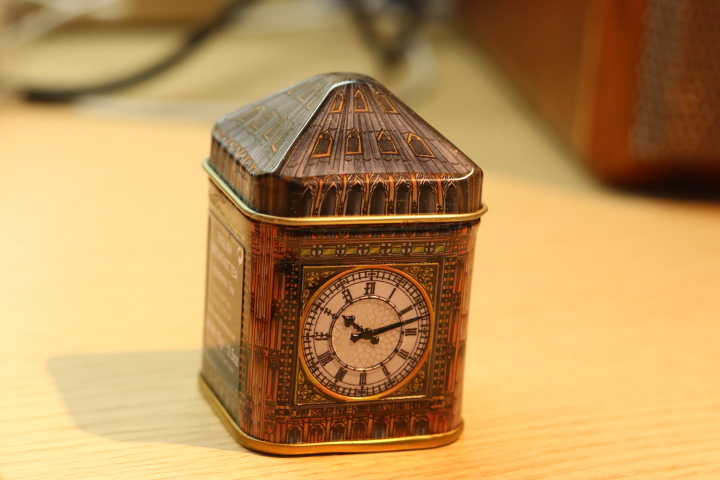Big Ben: (190, 61, 491, 462)
